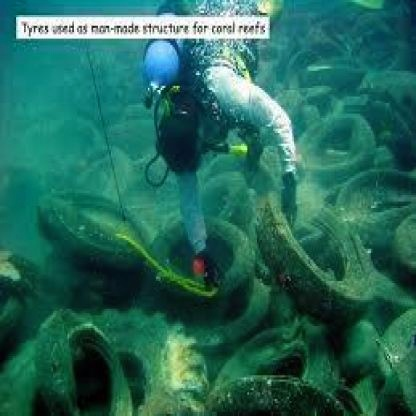tire: (276, 199, 387, 326), (228, 306, 324, 416), (112, 296, 198, 416), (172, 225, 266, 320), (51, 306, 131, 416), (302, 105, 384, 195)
